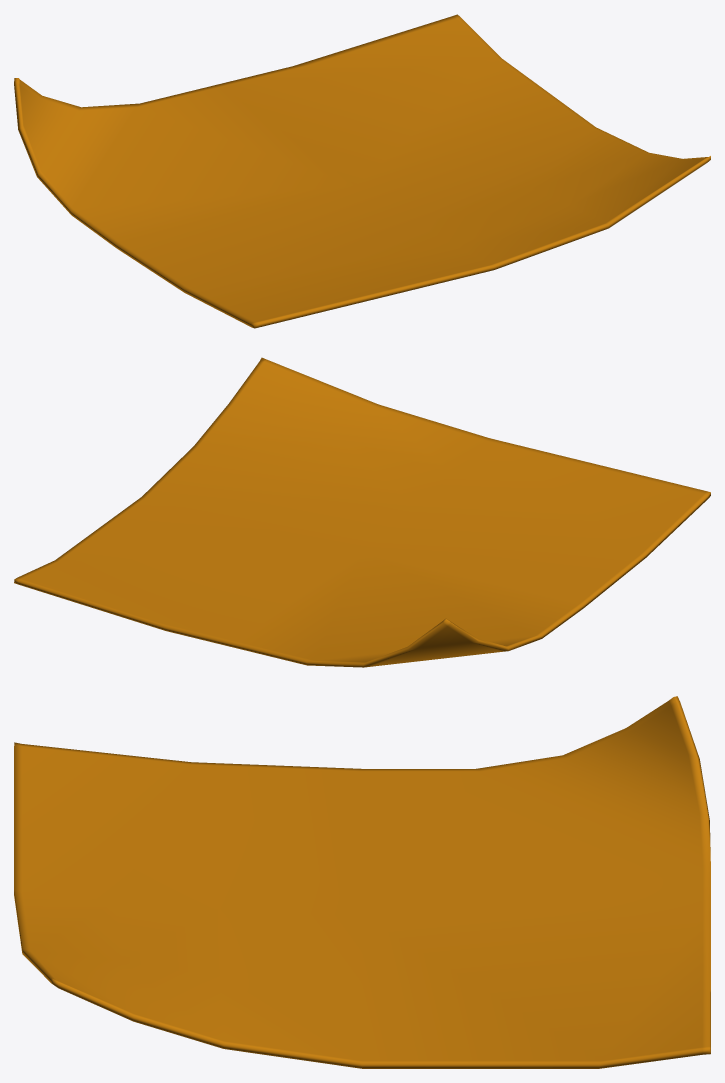
File: postit_01.FBX
3 views of the same model, one above another, from view 1: azimuth 30°, elevation 25°; view 2: azimuth 150°, elevation 25°; view 3: azimuth 270°, elevation 25° (orthographic). The views are drawn at different scales.
Parts seen in each view (by area): view 1: postit_01; view 2: postit_01; view 3: postit_01.
Boxes of the visible parts, <box> form: postit_01: <box>14,14,710,328</box>; postit_01: <box>14,357,710,667</box>; postit_01: <box>14,696,710,1068</box>.
Bounding box in the file's own units: 1000 × 147 × 999.
